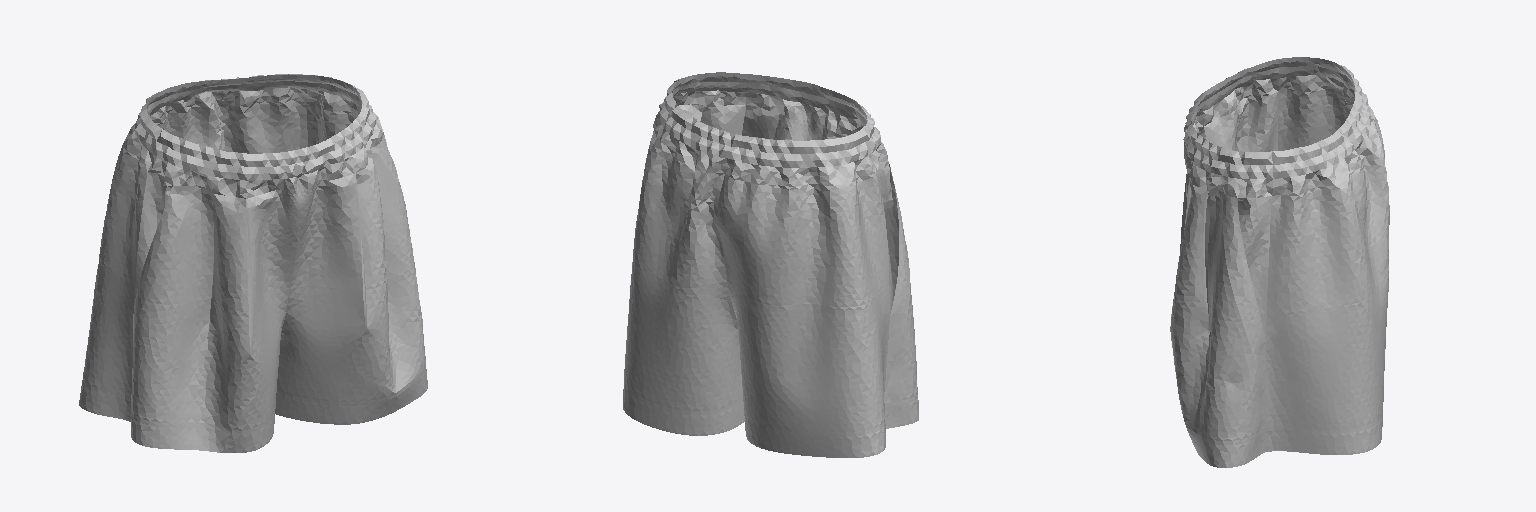
The model's file is Small_Short.obj.
3 views of the same model, side by side, from view 1: azimuth 30°, elevation 25°; view 2: azimuth 150°, elevation 25°; view 3: azimuth 270°, elevation 25° (orthographic).
Visible parts, largest first — view 1: duanku.005; view 2: duanku.005; view 3: duanku.005.
Part boxes in pixels (bbox=[...]): duanku.005: bbox=[79, 74, 427, 452]; duanku.005: bbox=[623, 72, 918, 457]; duanku.005: bbox=[1170, 57, 1389, 467].
Size of the model in its own units: 0.453 by 0.4661 by 0.2985.